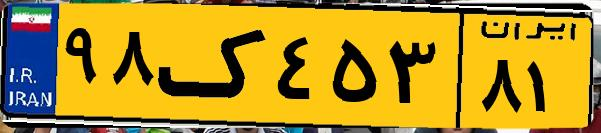1: (525, 38, 570, 115)
3: (385, 28, 445, 110)
4: (270, 28, 330, 110)
5: (330, 28, 385, 110)
8: (475, 38, 525, 113), (110, 28, 158, 98)
9: (57, 26, 110, 100)
ک: (158, 12, 270, 120)
